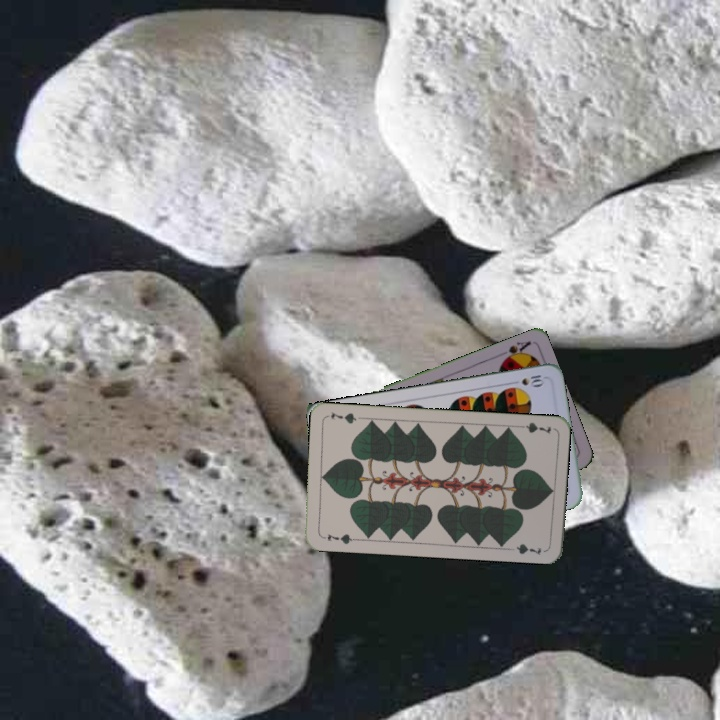G7: (513, 418, 553, 436), (318, 530, 359, 547)
S10: (518, 371, 547, 388)
SA: (497, 337, 533, 365)
